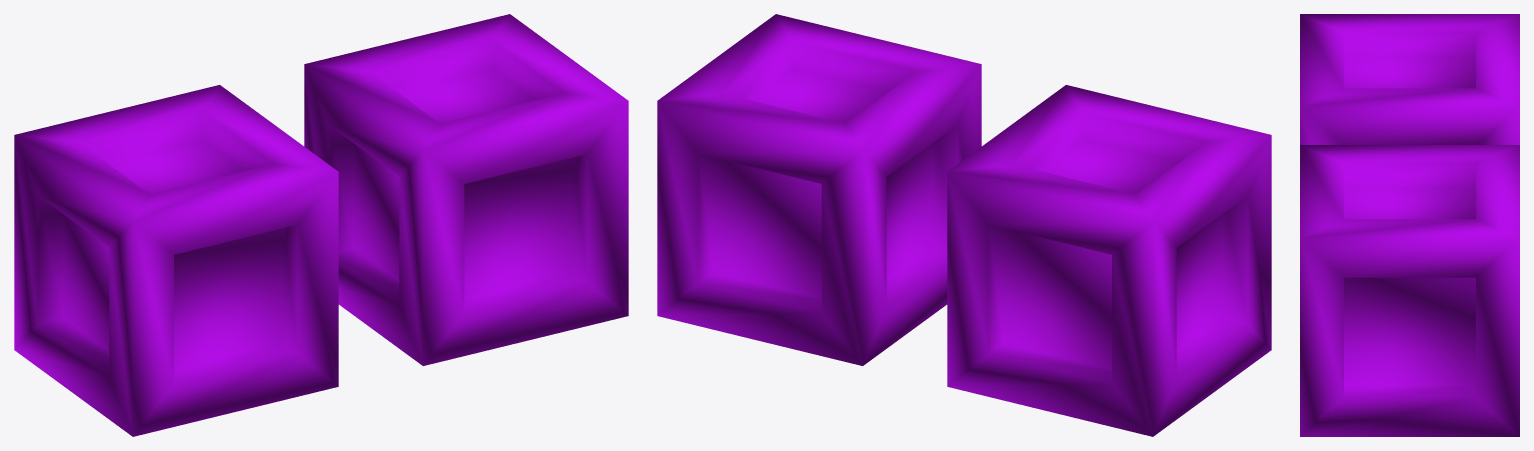
The model's file is inset_cube.glb.
The picture shows the model from 3 angles, left to right: view 1: azimuth 30°, elevation 25°; view 2: azimuth 150°, elevation 25°; view 3: azimuth 270°, elevation 25°; orthographic projection. The views are drawn at different scales.
Visible parts, largest first — view 1: Cube, Cube.001; view 2: Cube, Cube.001; view 3: Cube.001, Cube.
Boxes of the visible parts, x1,y1,x2,y2 form: Cube: (14,85,338,436); Cube.001: (304,14,628,365); Cube: (947,85,1271,436); Cube.001: (657,14,981,365); Cube.001: (1300,145,1519,436); Cube: (1300,14,1519,144).
Bounding box in the file's own units: 4.82 × 2 × 2.
